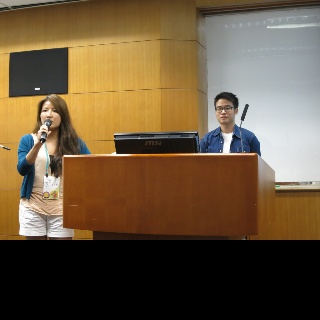without_mask: (215, 97, 235, 123)
